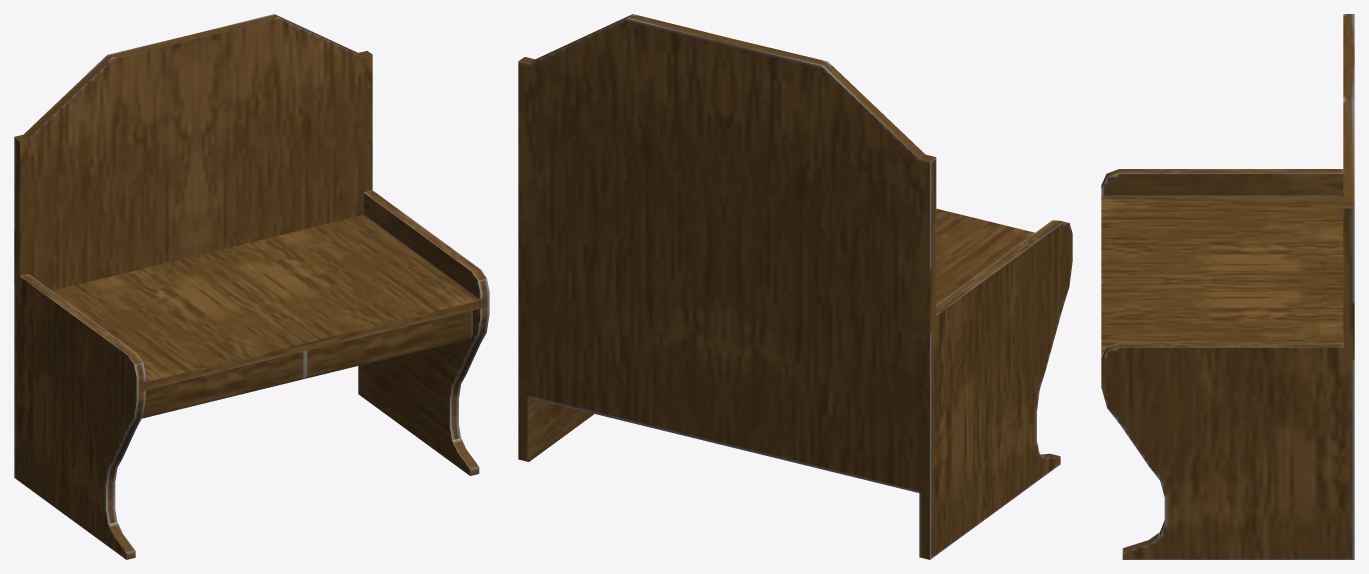
File: studytable.glb
The picture shows the model from 3 angles, left to right: view 1: azimuth 30°, elevation 25°; view 2: azimuth 150°, elevation 25°; view 3: azimuth 270°, elevation 25°; orthographic projection. The views are drawn at different scales.
Visible parts, largest first — view 1: studytable; view 2: studytable; view 3: studytable.
Boxes of the visible parts, x1,y1,x2,y2 form: studytable: [14, 14, 489, 559]; studytable: [518, 14, 1072, 559]; studytable: [1101, 14, 1354, 559].
Bounding box in the file's own units: 2 × 2.17 × 1.2.
Materials: 1 (1 with a texture image).
